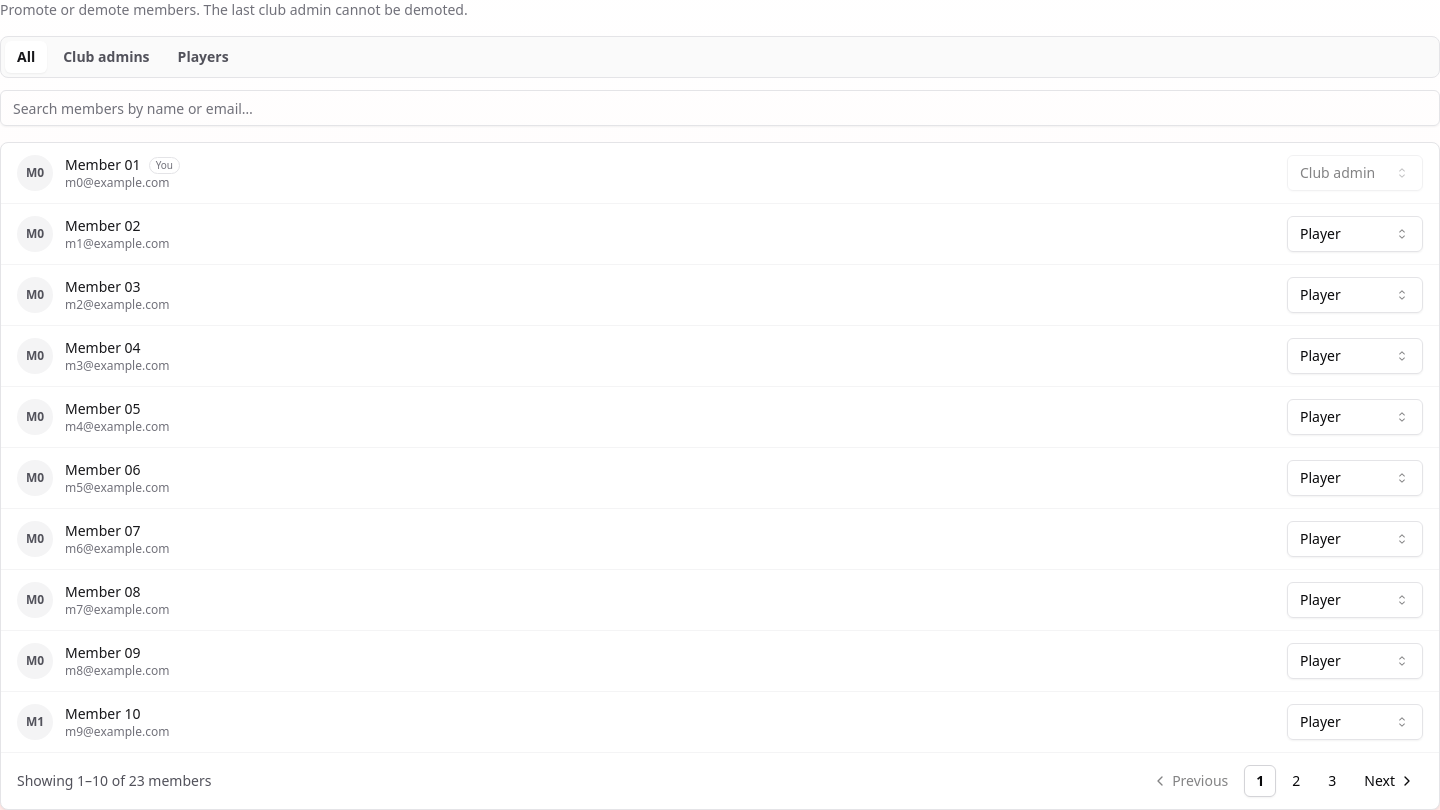
Test: ClubAdminRoster › paginates the roster 10 members at a time
(page scrolled)
Check: the text "Member 01" is shown, box x1=65 y1=155 x2=141 y2=175
Check: the text "Member 10" is shown, box x1=65 y1=704 x2=141 y2=724
Click the button with aria-label "Go to next page": (1388, 781) x1=1352 y1=765 x2=1423 y2=797
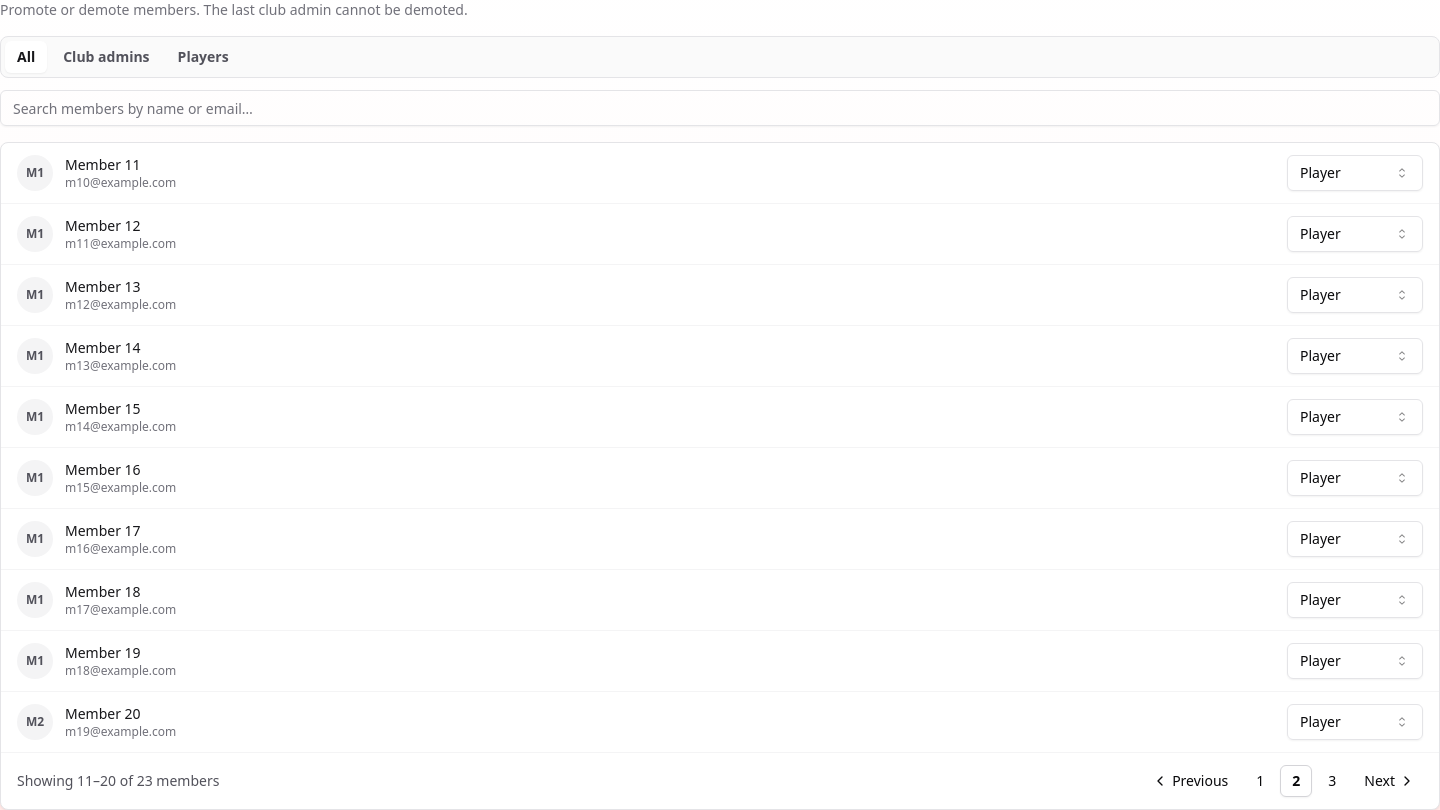
Check: the text "Member 11" is shown, box x1=65 y1=155 x2=141 y2=175
Check: the text "Member 01" is gone
Click the button named "Go to page 3": (1332, 781) x1=1316 y1=765 x2=1348 y2=797
(page scrolled)
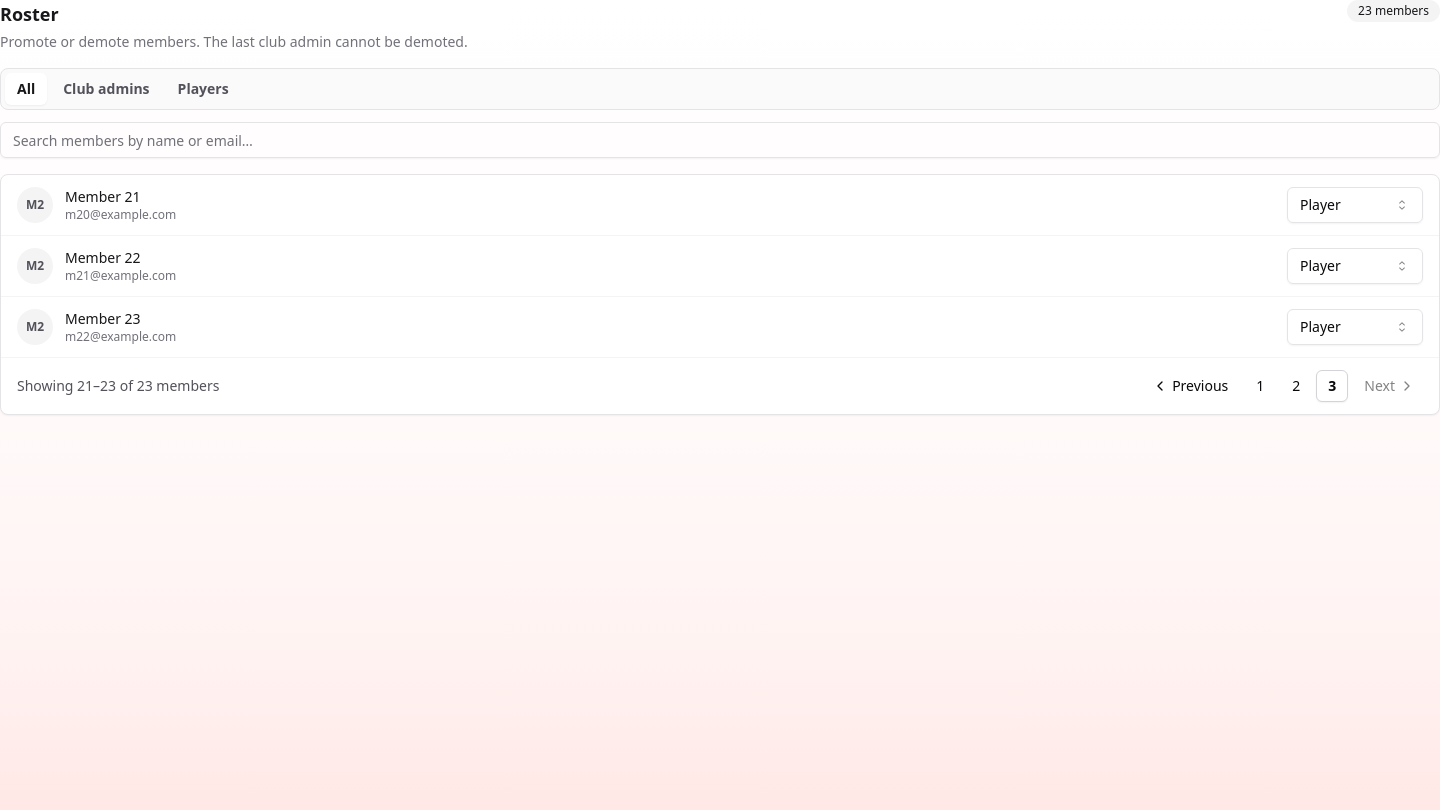
Check: the text "Member 23" is shown, box x1=65 y1=309 x2=141 y2=329
Check: the text "Member 20" is gone
Check: the button with aria-label "Go to next page" is disabled, box x1=1352 y1=370 x2=1423 y2=402
